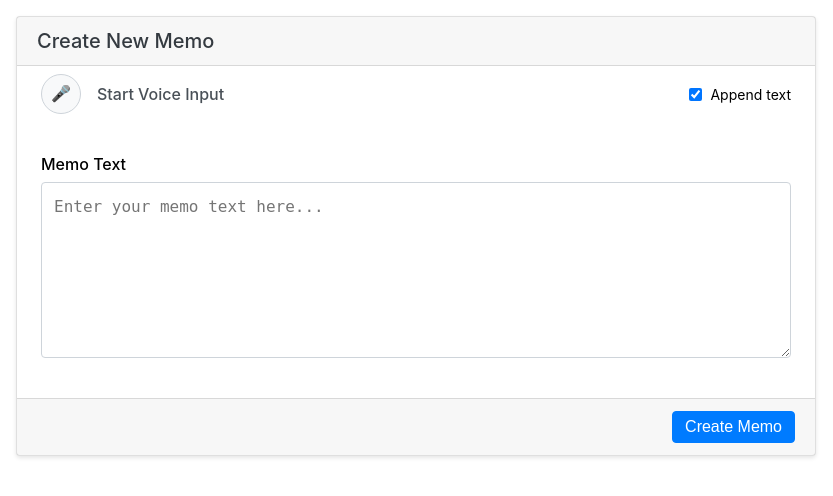
Test: MemoForm Component › disables submit button when text is empty
# Enter text and then clear it
In the text box with test id "memo-text-input": (416, 270) top-left (41, 182), bottom-right (791, 358), type "Some text"
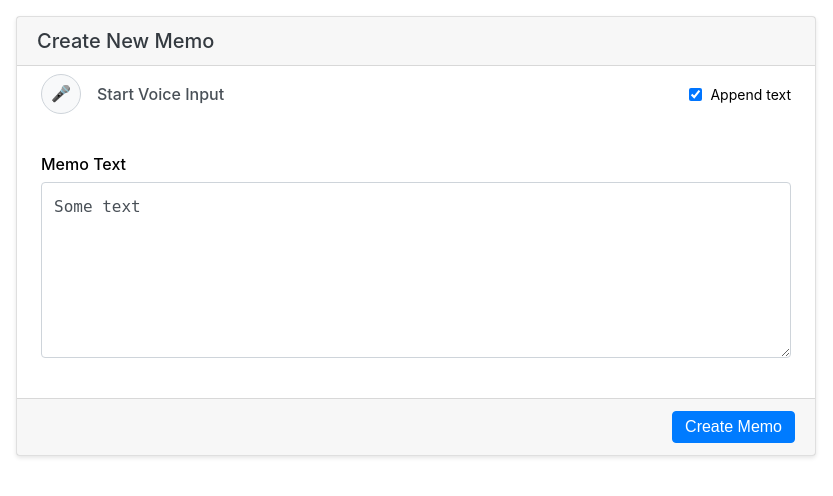
Clear the text box with test id "memo-text-input": (416, 270) top-left (41, 182), bottom-right (791, 358)
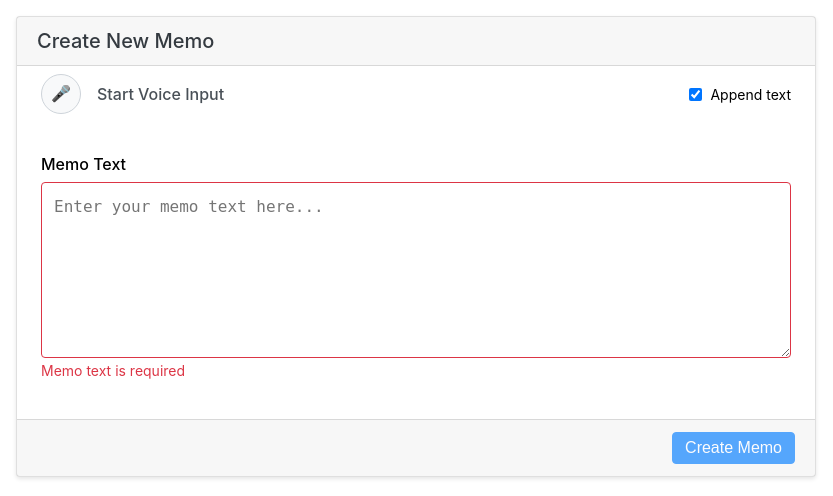
Check: the button with test id "submit-button" is disabled, box top-left (672, 432), bottom-right (795, 464)
